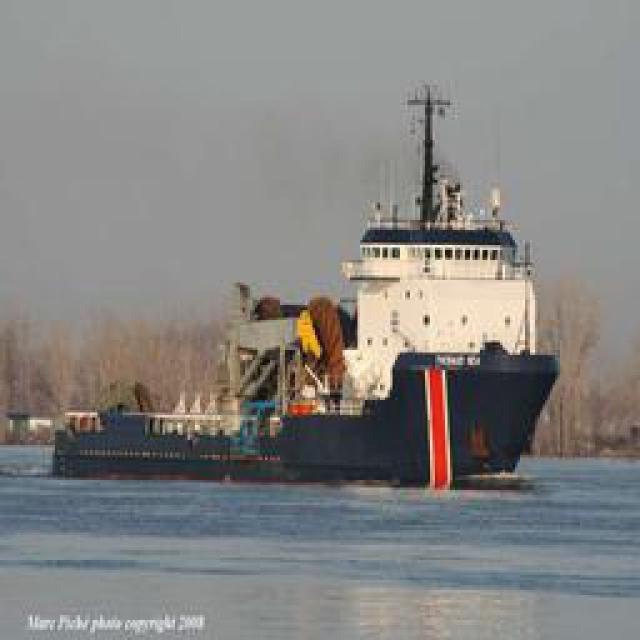Ship: (276, 79, 554, 489)
